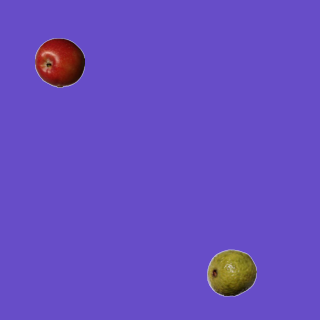Apple Braeburn: (34, 37, 84, 87)
Guava: (206, 247, 256, 297)
